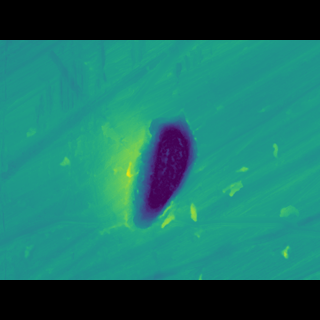Loch: (0, 198, 320, 228), (117, 118, 205, 218)
